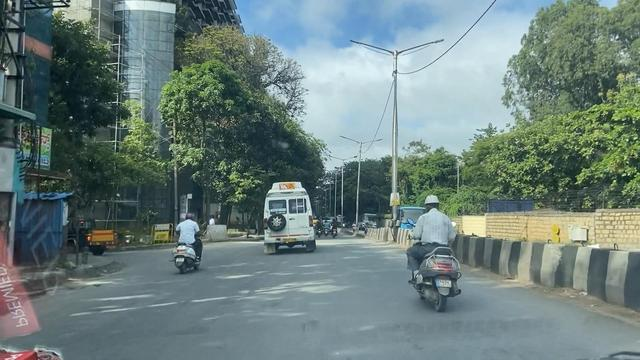HMV: (261, 182, 320, 259)
LMV: (412, 193, 460, 309), (178, 211, 204, 278)
